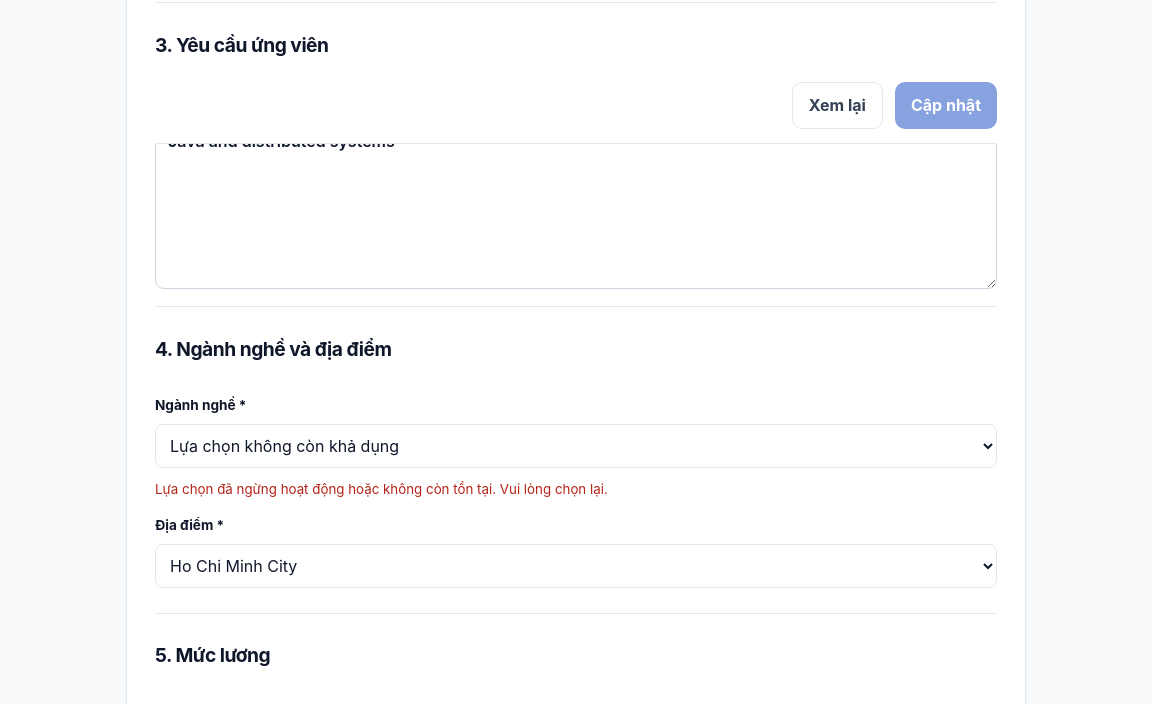
Scenario: job metadata › blocks inactive categoryId during edit until reselected
(page scrolled)
Expected: the text "Lựa chọn đã ngừng hoạt động hoặc không còn tồn tại. Vui lòng chọn lại." is shown, 155,481 -> 608,497
Expected: the button "Cập nhật" is disabled, 895,82 -> 997,129
Select "Backend" in the dropdown labelled "Ngành nghề *": (576, 446) 155,424 -> 997,468
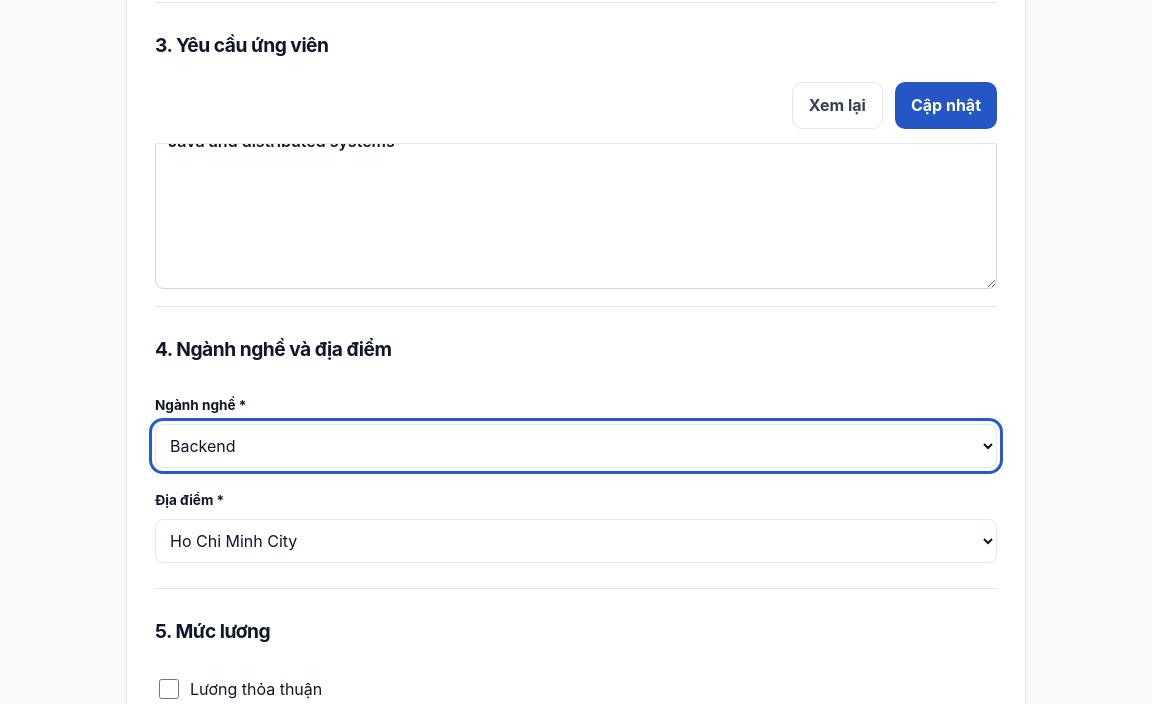
Expected: the button "Cập nhật" is enabled, 895,82 -> 997,129
